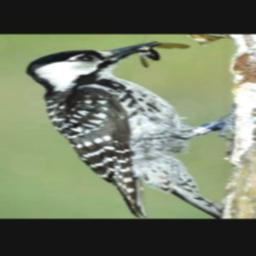Woodpecker: (27, 39, 237, 218)
